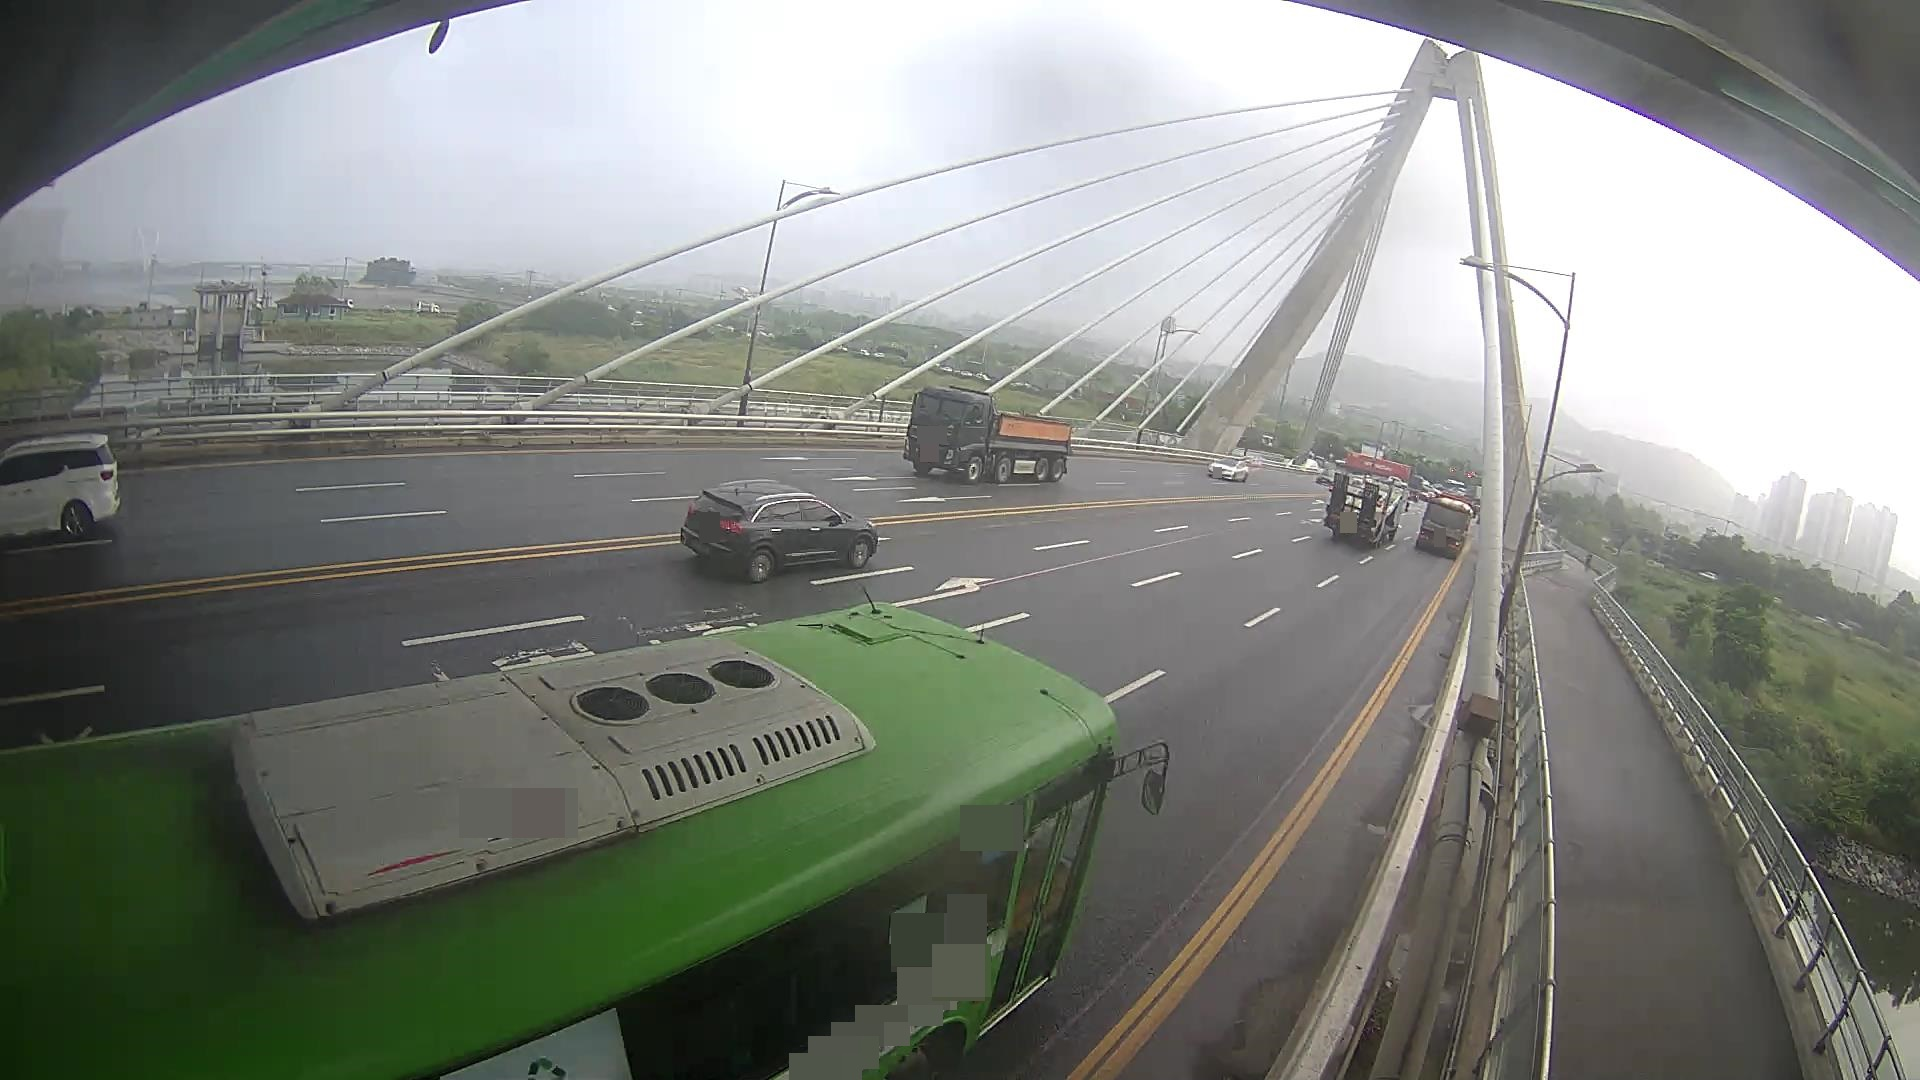정상차량: (902, 385, 1074, 485)
